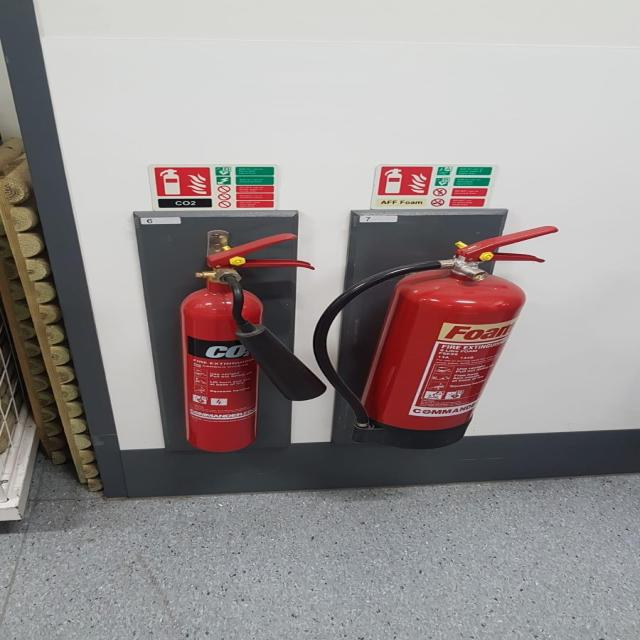fire_extinguisher: (307, 223, 564, 450), (174, 229, 334, 455)
